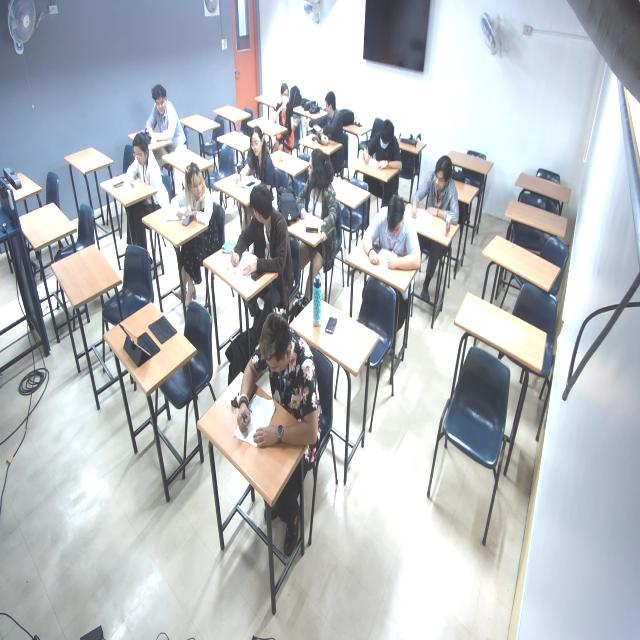read: (235, 314, 318, 461), (227, 192, 294, 286), (362, 194, 426, 278), (296, 146, 341, 235), (168, 166, 219, 240), (409, 163, 462, 231), (233, 124, 279, 192), (360, 120, 406, 178), (121, 139, 161, 201), (143, 85, 179, 148)
